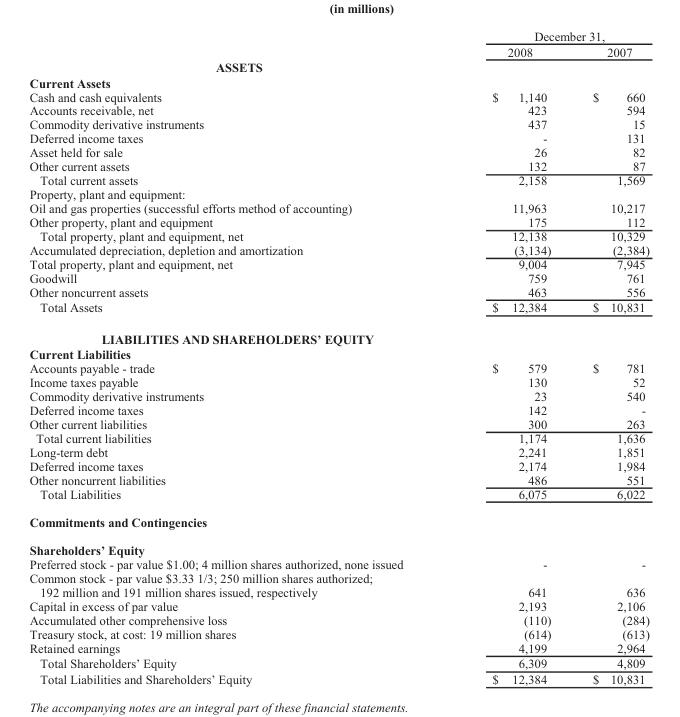table: (28, 29, 648, 685)
table column: (28, 29, 447, 685), (447, 29, 571, 685), (571, 29, 648, 685)
table column header: (28, 29, 648, 59)
table projected row header: (28, 507, 648, 536), (28, 322, 648, 346), (28, 536, 648, 557), (28, 59, 648, 74), (28, 74, 648, 89), (28, 186, 648, 200), (28, 346, 648, 360), (28, 570, 648, 584)
table row: (28, 507, 648, 536), (28, 322, 648, 346), (28, 299, 648, 322), (28, 486, 648, 507), (28, 536, 648, 557), (28, 43, 648, 59), (28, 655, 648, 671), (28, 59, 648, 74), (28, 74, 648, 89), (28, 284, 648, 299), (28, 640, 648, 655), (28, 29, 648, 43), (28, 89, 648, 103), (28, 103, 648, 117), (28, 117, 648, 131), (28, 131, 648, 145), (28, 145, 648, 159), (28, 159, 648, 173), (28, 186, 648, 200), (28, 200, 648, 214), (28, 214, 648, 228), (28, 228, 648, 242), (28, 242, 648, 256), (28, 256, 648, 270), (28, 270, 648, 284), (28, 346, 648, 360), (28, 360, 648, 374), (28, 374, 648, 388), (28, 388, 648, 402), (28, 402, 648, 416), (28, 416, 648, 430), (28, 430, 648, 444), (28, 444, 648, 458), (28, 458, 648, 472), (28, 472, 648, 486), (28, 570, 648, 584), (28, 584, 648, 598), (28, 598, 648, 612), (28, 612, 648, 626), (28, 626, 648, 640), (28, 671, 648, 685), (28, 173, 648, 186), (28, 557, 648, 570)
table spanning cell: (447, 29, 648, 43)
